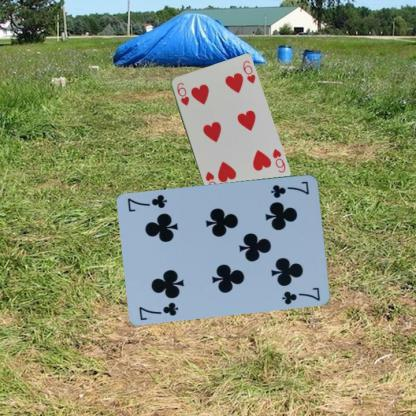6h: (270, 146, 286, 174), (174, 80, 190, 107)
7c: (136, 300, 180, 322), (268, 178, 310, 199)
